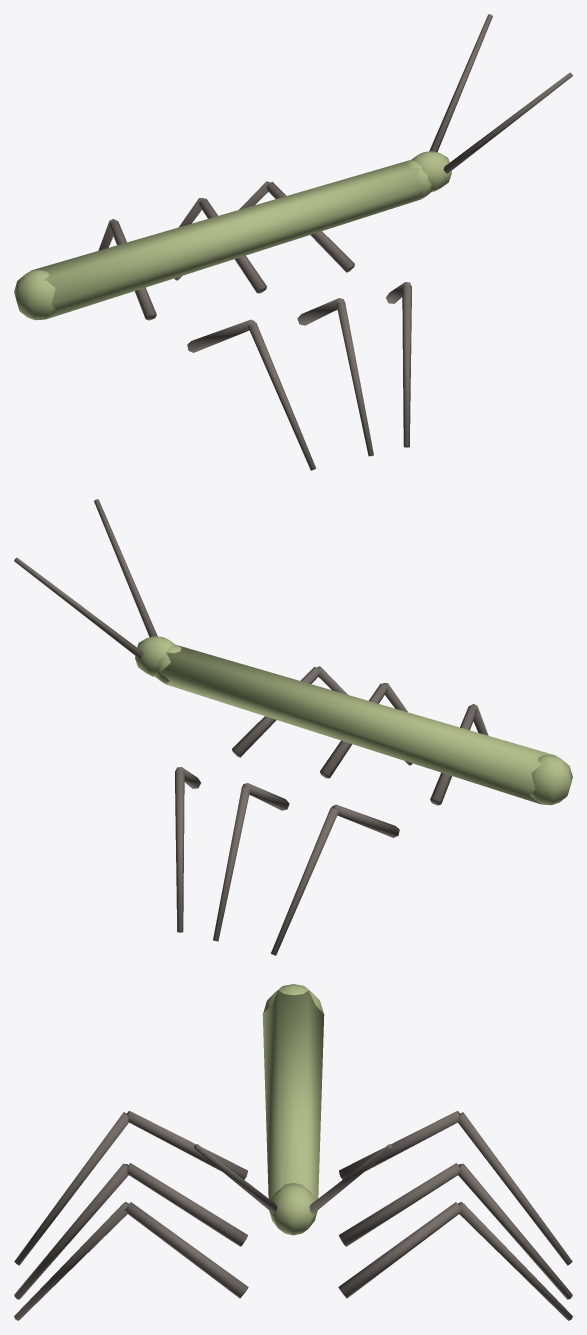
The model's file is lanyu-giant-walking-stick.glb.
The picture shows the model from 3 angles, top to bottom: view 1: azimuth 30°, elevation 25°; view 2: azimuth 150°, elevation 25°; view 3: azimuth 270°, elevation 25°; orthographic projection. The views are drawn at different scales.
Visible parts, largest first — view 1: e; view 2: e; view 3: e.
Part boxes in pixels (x1,y1,x2,y2): e: (14,14,572,470); e: (14,499,572,955); e: (14,984,572,1320).
Bounding box in the file's own units: 0.5236 × 0.2548 × 0.4095.
